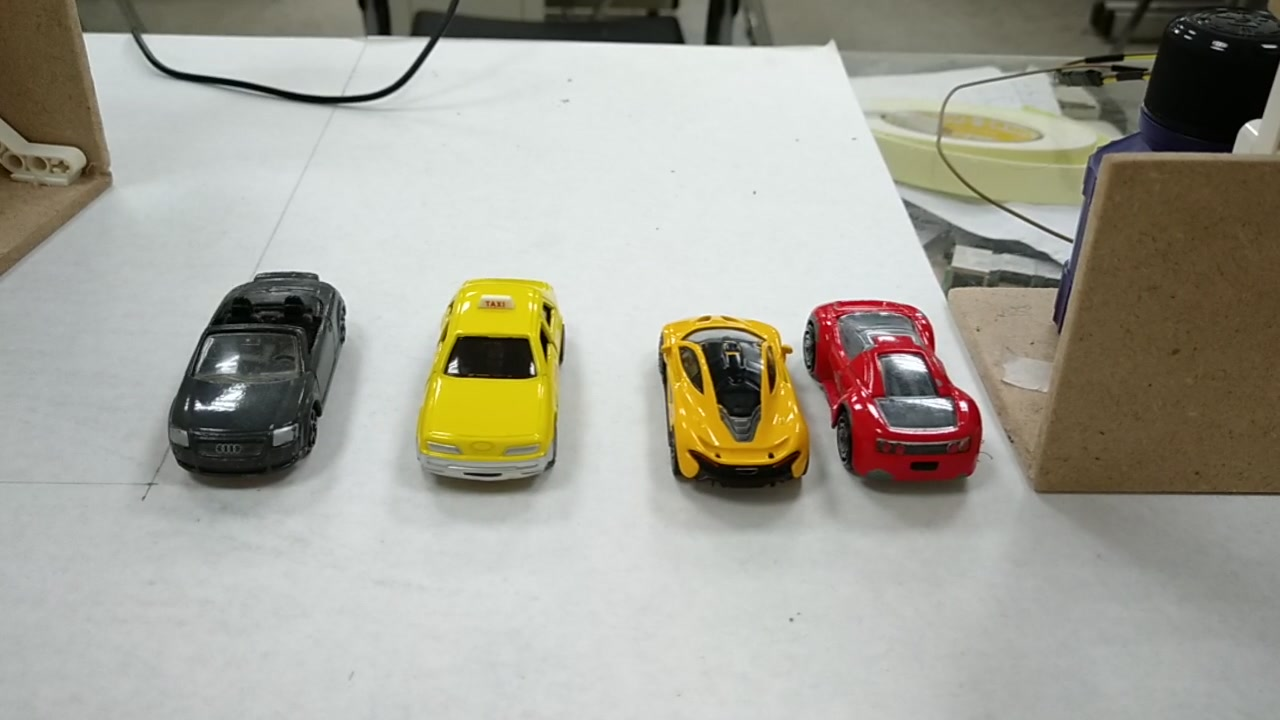car: (164, 283, 360, 477), (808, 291, 980, 483), (418, 281, 572, 482), (670, 309, 808, 504)
